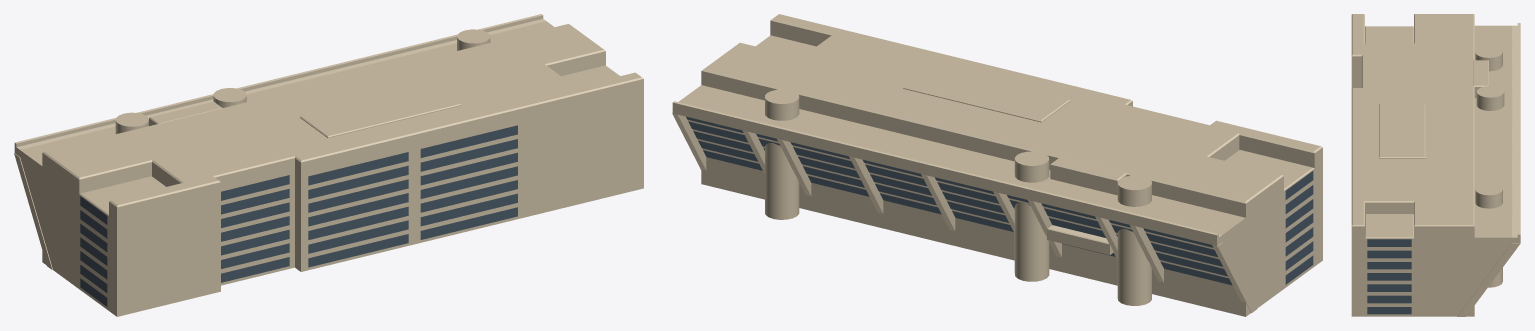
The model's file is dal-dallas-city-hall.glb.
3 views of the same model, side by side, from view 1: azimuth 30°, elevation 25°; view 2: azimuth 150°, elevation 25°; view 3: azimuth 270°, elevation 25° (orthographic). The views are drawn at different scales.
Parts seen in each view (by area): view 1: Dallas City Hall; view 2: Dallas City Hall; view 3: Dallas City Hall.
Part boxes in pixels (x1,y1,x2,y2): Dallas City Hall: [14, 14, 643, 316]; Dallas City Hall: [672, 14, 1322, 316]; Dallas City Hall: [1351, 14, 1520, 316].
Size of the model in its own units: 174 by 35.4 by 58.56.
